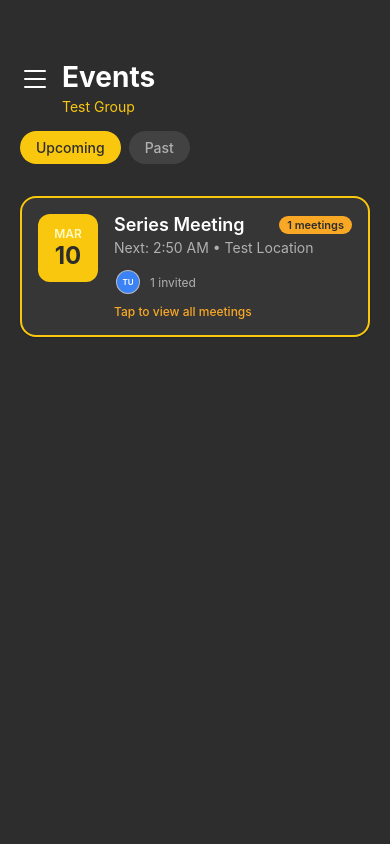
Test: MeetingsScreen › should open series view modal when tapping on series meeting card
This screenshot has width=390, height=844.
// Tap on the series card
Click the text "Tap to view all meetings": click(183, 312) [114,304,252,319]
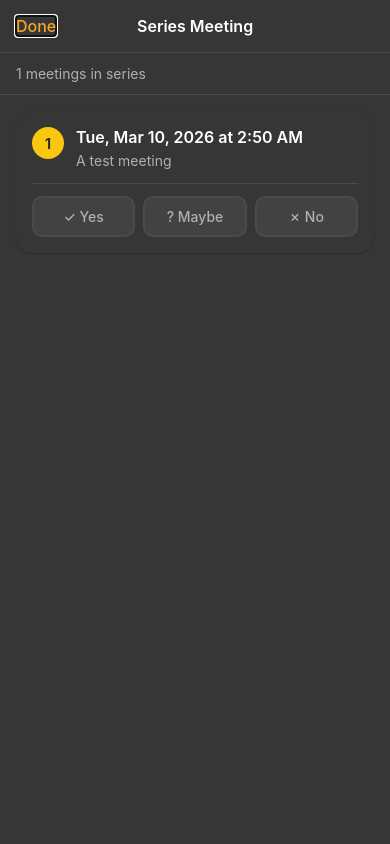
Expected: the text "Done" is shown, [16,16,56,36]
Expected: the text "1 meetings in series" is shown, [0,53,389,95]
